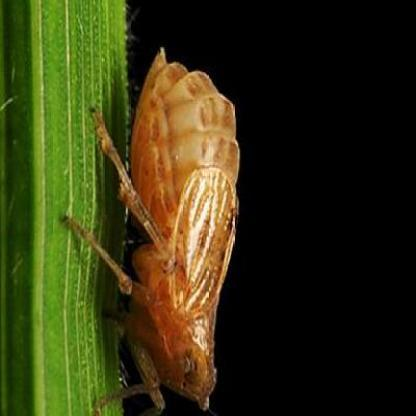brown-planthopper: (110, 44, 243, 408)
